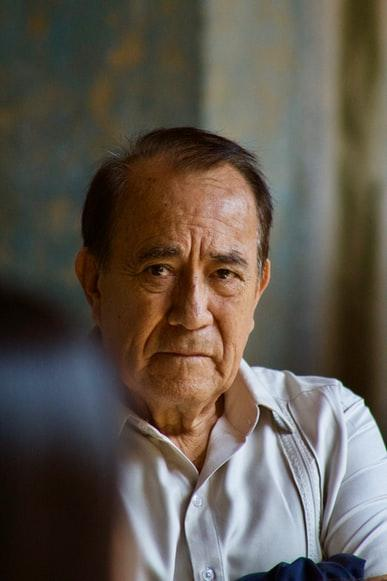Wrinkles: (179, 223, 228, 235), (188, 214, 233, 226), (137, 231, 168, 246)
